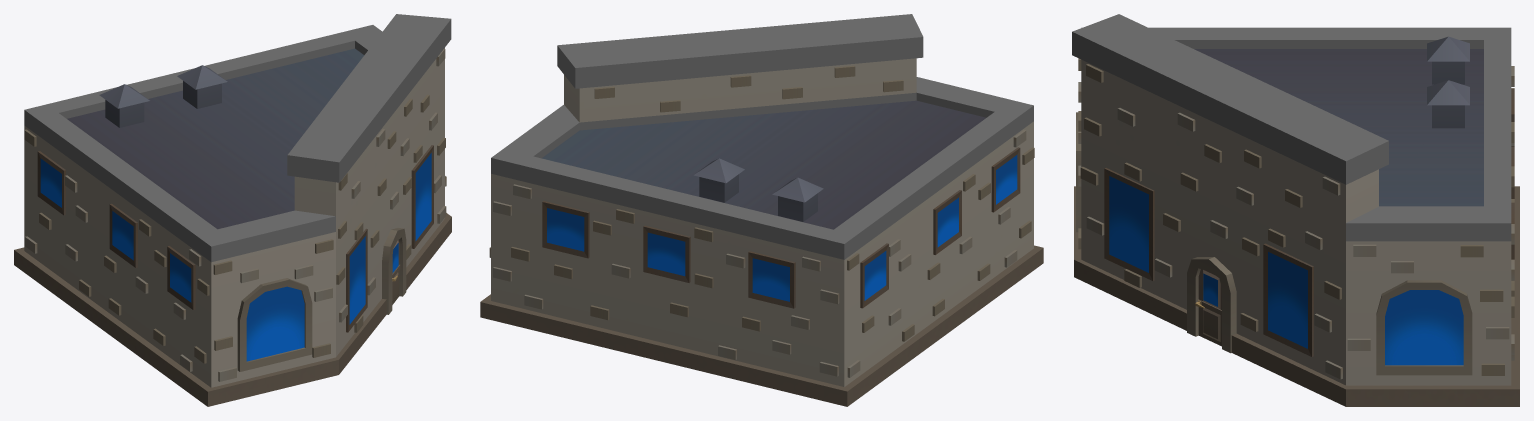
File: SM_House_19.FBX
The picture shows the model from 3 angles, left to right: view 1: azimuth 30°, elevation 25°; view 2: azimuth 150°, elevation 25°; view 3: azimuth 270°, elevation 25°; orthographic projection. The views are drawn at different scales.
Visible parts, largest first — view 1: SM_House_19; view 2: SM_House_19; view 3: SM_House_19.
Part boxes in pixels (bbox=[...]): SM_House_19: bbox=[14, 14, 451, 406]; SM_House_19: bbox=[480, 14, 1043, 406]; SM_House_19: bbox=[1072, 14, 1519, 406].
Size of what is drawn, in the model's own units: 1454 by 1354 by 818.
